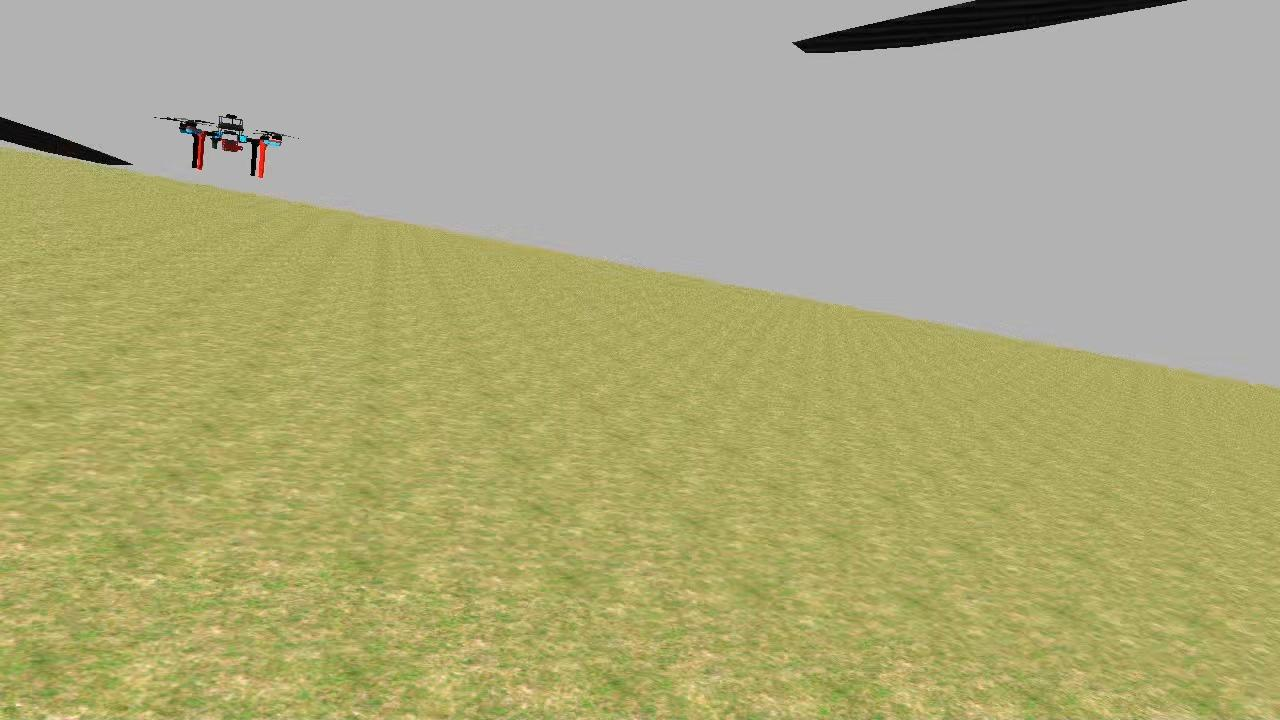UAV: (165, 104, 292, 186)
